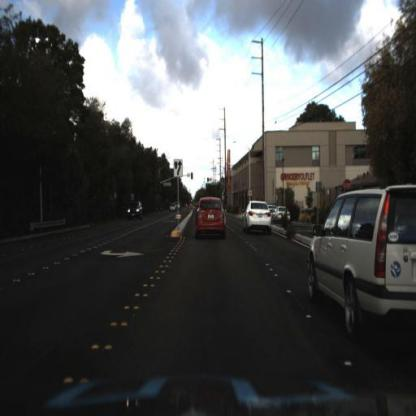car: (305, 172, 416, 373), (188, 194, 231, 243), (238, 192, 275, 240), (121, 194, 144, 220), (272, 202, 291, 223), (165, 198, 179, 214)
